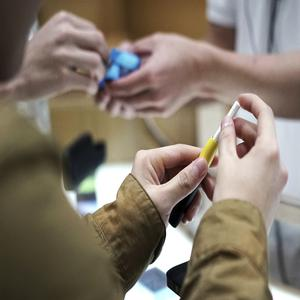cigarette: (205, 96, 244, 147)
